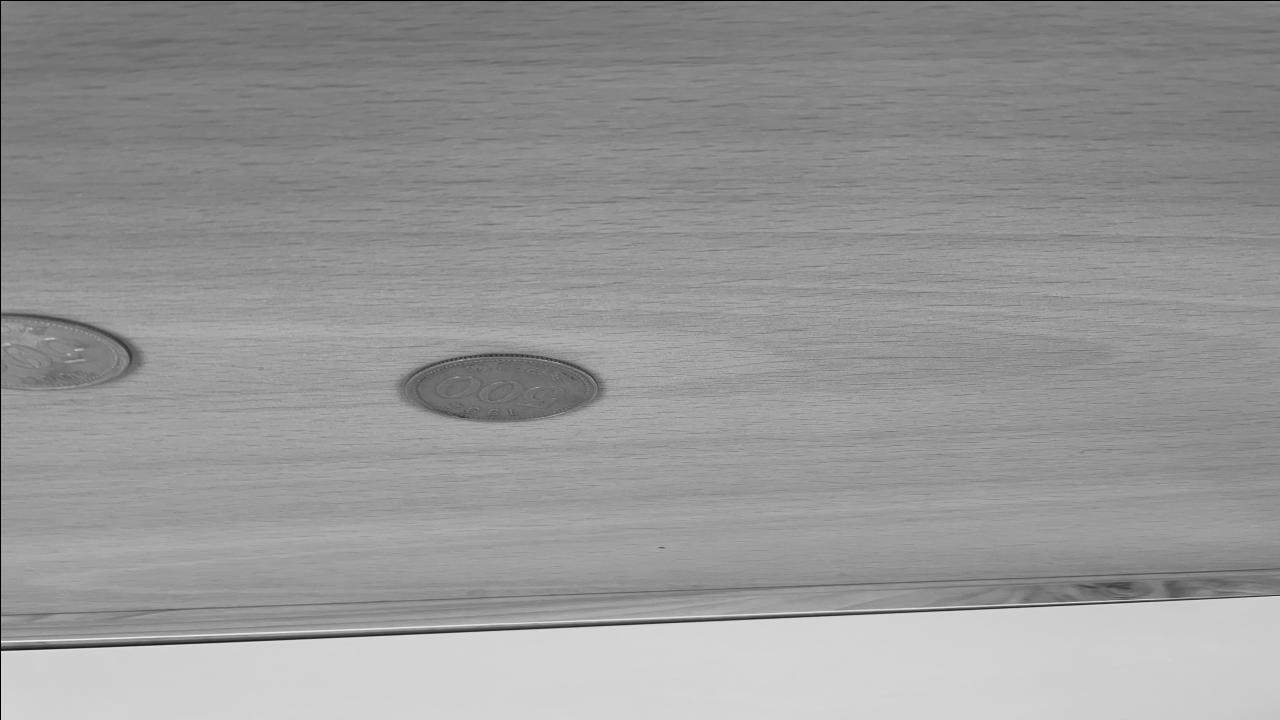coin: (395, 352, 603, 425), (2, 314, 131, 390)
